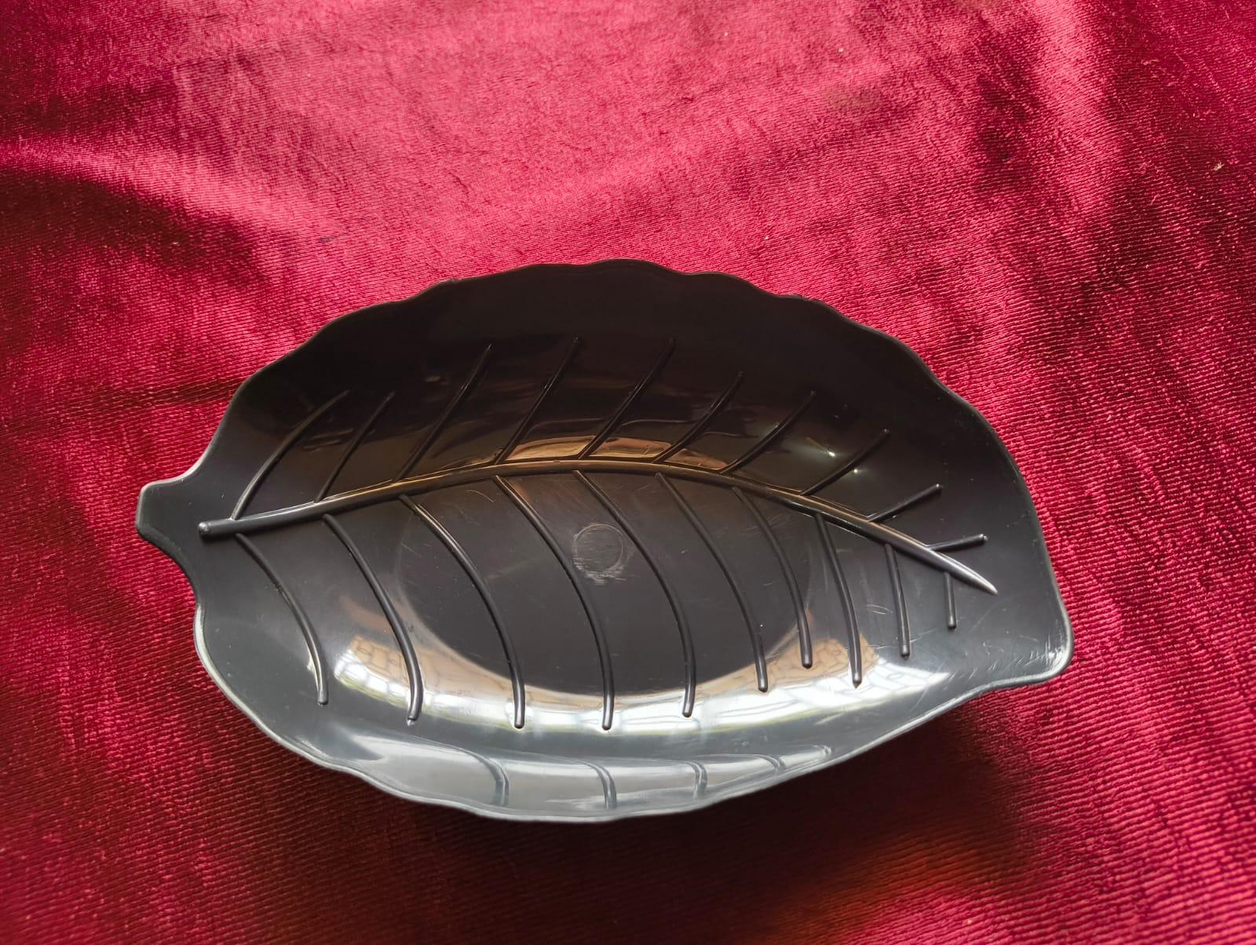plate: (104, 242, 1091, 842)
